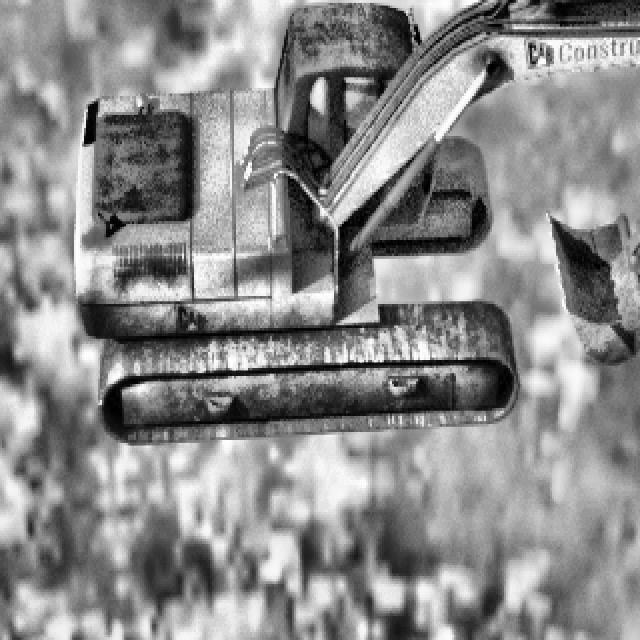excavator: (72, 0, 640, 443)
